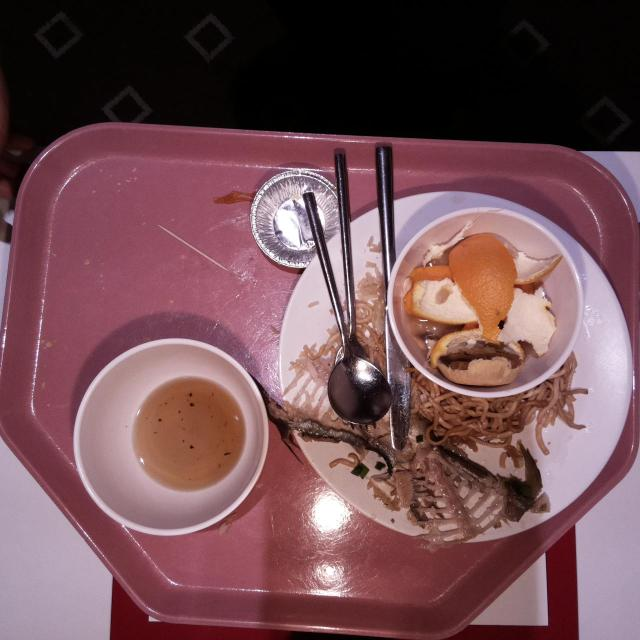Bone-fish: (412, 441, 536, 553), (281, 345, 388, 443)
Noodle: (410, 366, 590, 446)
Orange-peel: (406, 237, 560, 367)
